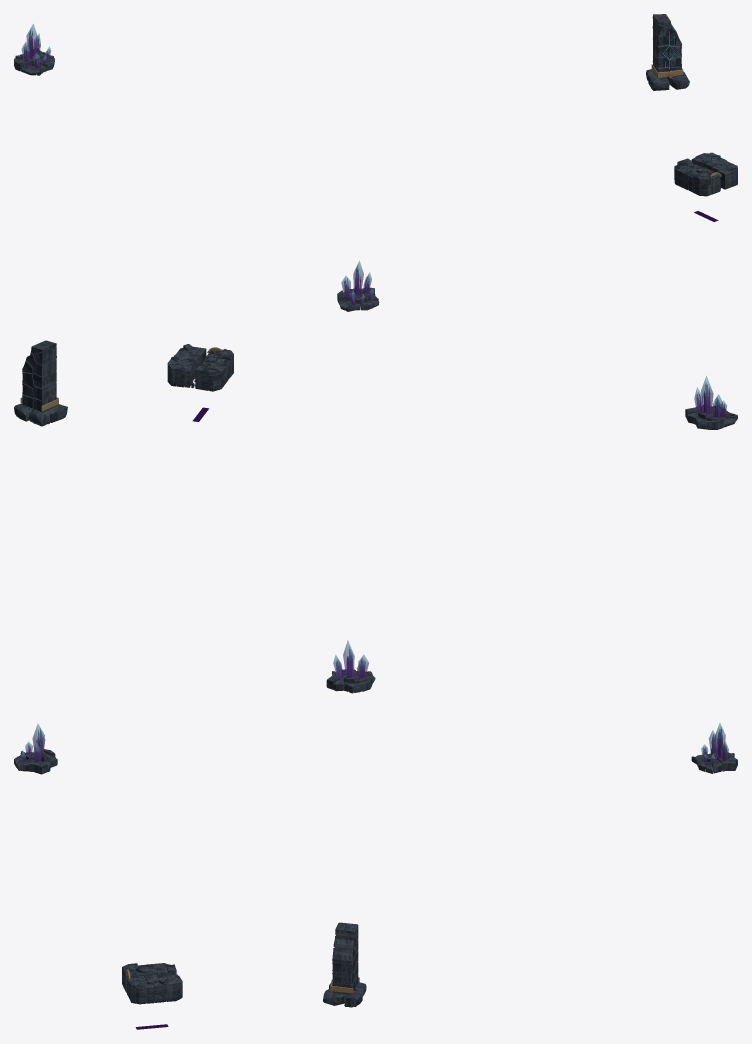
File: chapter2_stage25_props.glb
The picture shows the model from 3 angles, top to bottom: view 1: azimuth 30°, elevation 25°; view 2: azimuth 150°, elevation 25°; view 3: azimuth 270°, elevation 25°; orthographic projection. The views are drawn at different scales.
Visible parts, largest first — view 1: 2-10_void_fissure__ch2_weathered_slate, 2-10_pillar__ch2_weathered_slate, 2-10_crystal_right__ch2_weathered_slate, 2-10_crystal_lower_left__ch2_weathered_slate; view 2: 2-10_pillar__ch2_weathered_slate, 2-10_void_fissure__ch2_weathered_slate, 2-10_crystal_right__ch2_weathered_slate, 2-10_crystal_lower_left__ch2_weathered_slate; view 3: 2-10_pillar__ch2_weathered_slate, 2-10_void_fissure__ch2_weathered_slate, 2-10_crystal_right__ch2_weathered_slate, 2-10_crystal_lower_left__ch2_weathered_slate.
Boxes of the visible parts, left/top/right/bottom form: 2-10_void_fissure__ch2_weathered_slate: left=674, top=152, right=737, bottom=196; 2-10_pillar__ch2_weathered_slate: left=646, top=14, right=689, bottom=90; 2-10_crystal_right__ch2_weathered_slate: left=337, top=287, right=379, bottom=311; 2-10_crystal_lower_left__ch2_weathered_slate: left=14, top=49, right=54, bottom=75; 2-10_pillar__ch2_weathered_slate: left=14, top=340, right=67, bottom=426; 2-10_void_fissure__ch2_weathered_slate: left=167, top=344, right=233, bottom=391; 2-10_crystal_right__ch2_weathered_slate: left=685, top=405, right=737, bottom=429; 2-10_crystal_lower_left__ch2_weathered_slate: left=326, top=669, right=375, bottom=693; 2-10_pillar__ch2_weathered_slate: left=323, top=922, right=366, bottom=1007; 2-10_void_fissure__ch2_weathered_slate: left=122, top=963, right=182, bottom=1004; 2-10_crystal_right__ch2_weathered_slate: left=14, top=749, right=57, bottom=774; 2-10_crystal_lower_left__ch2_weathered_slate: left=691, top=748, right=737, bottom=773.
Size of the model in its own units: 9.79 by 2.26 by 11.82.
Materials: 7 (2 with a texture image).
